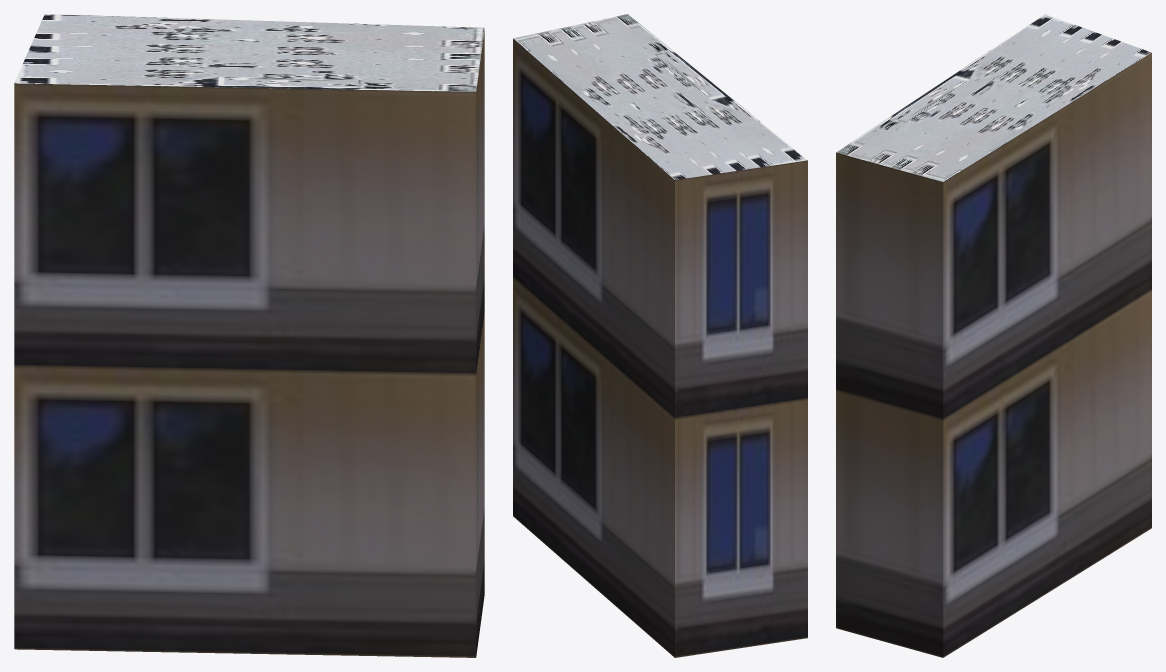
File: ResTex__2419.fbx
3 views of the same model, side by side, from view 1: azimuth 30°, elevation 25°; view 2: azimuth 150°, elevation 25°; view 3: azimuth 270°, elevation 25° (orthographic). The views are drawn at different scales.
Visible parts, largest first — view 1: CityEngineMaterial_5_m, CityEngineMaterial_8_m; view 2: CityEngineMaterial_5_m, CityEngineMaterial_8_m; view 3: CityEngineMaterial_5_m, CityEngineMaterial_8_m.
Boxes of the visible parts, x1=… form: CityEngineMaterial_5_m: x1=14, y1=30, x2=484, y2=657; CityEngineMaterial_8_m: x1=14, y1=14, x2=484, y2=91; CityEngineMaterial_5_m: x1=513, y1=39, x2=807, y2=657; CityEngineMaterial_8_m: x1=513, y1=14, x2=807, y2=179; CityEngineMaterial_5_m: x1=836, y1=52, x2=1151, y2=657; CityEngineMaterial_8_m: x1=836, y1=14, x2=1151, y2=181.
Bounding box in the file's own units: 4.55 × 6 × 3.61.
Materials: 2 (2 with a texture image).
